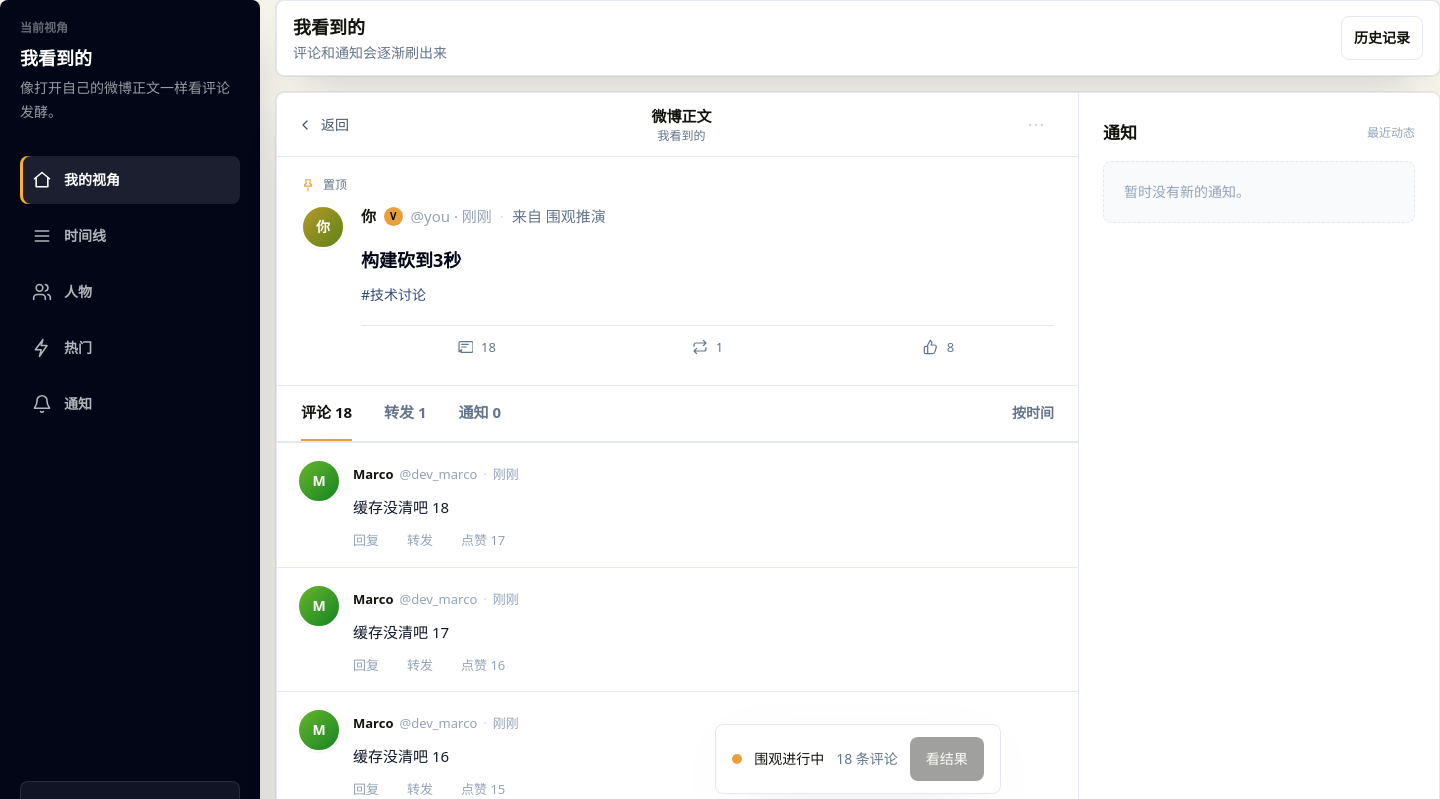
Test: keeps comments inside a scrollable social viewport and switches actor perspective
This screenshot has width=1440, height=799.
Click the 1st button "Marco" at coordinates (373, 475), box [353,459,394,491]
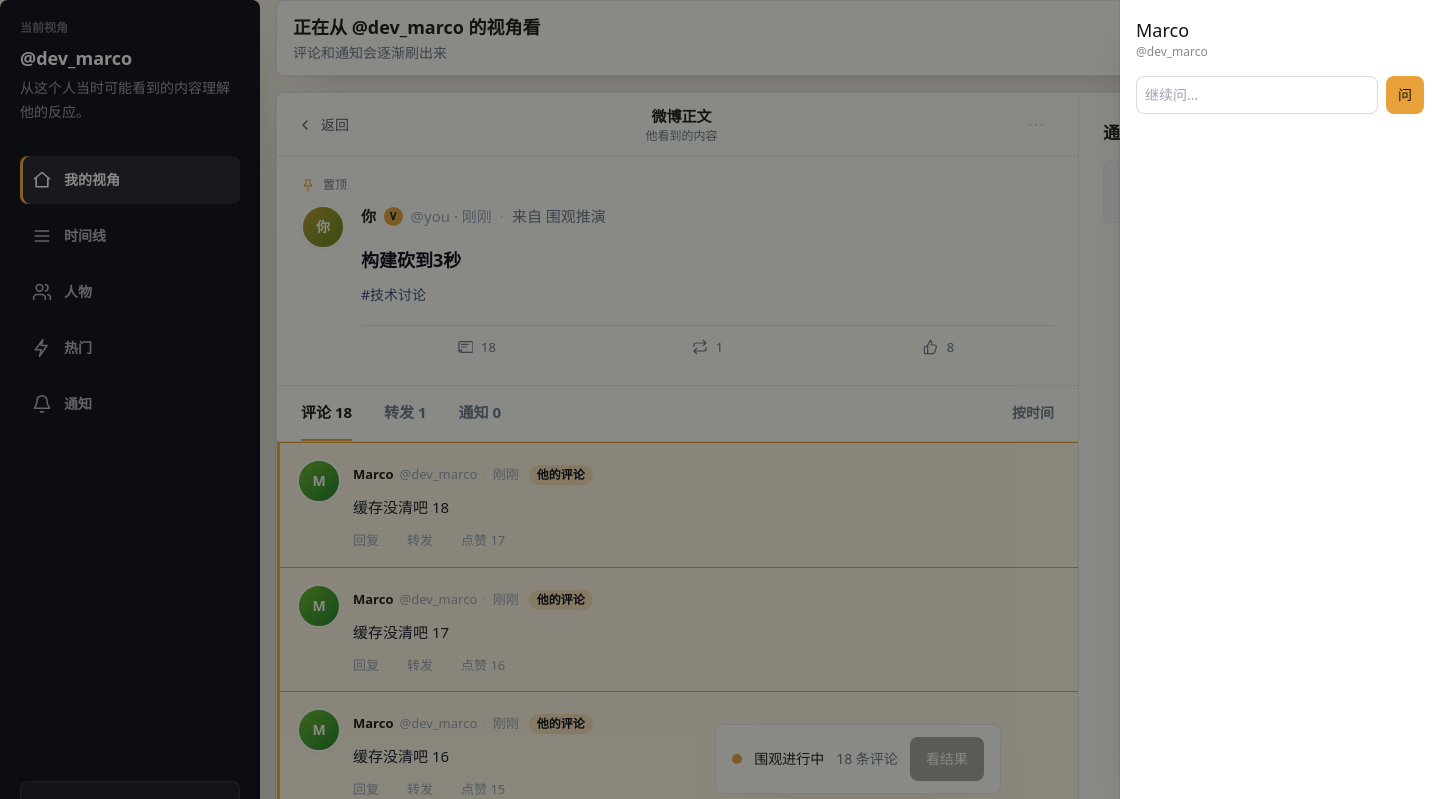
Now the text "正在从 @dev_marco 的视角看" is shown, box [293,13,541,41]
